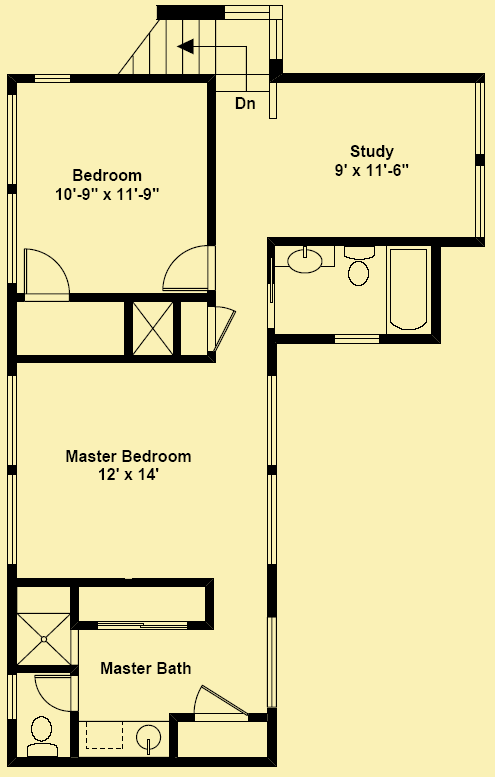bathroom has a large bathtub, small and large sink: (264, 235, 440, 346)
master bathroom has a shower space, small and large sink: (13, 574, 225, 773)
